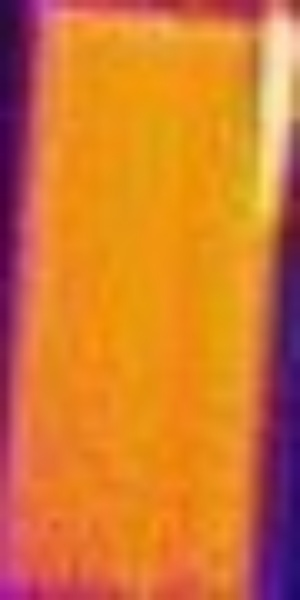Diode: (244, 7, 298, 255)
